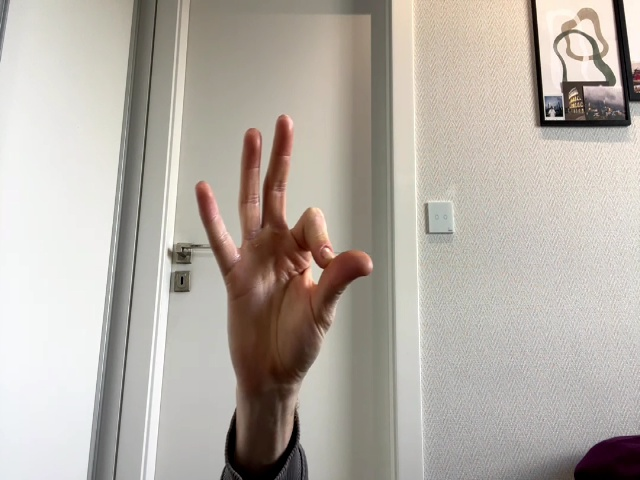S: (197, 114, 373, 380)
